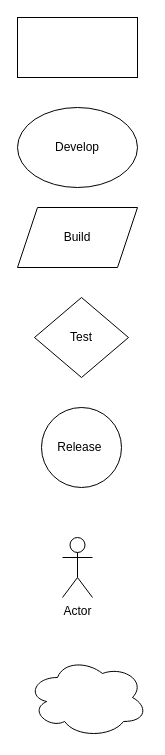
Some shapes in this 165 by 755 pixel diagram are drawn without their labels. The centre of each missing label's shape, as x and y in pixels:
Monitor: the point at 87,697
Plan: the point at 77,47
